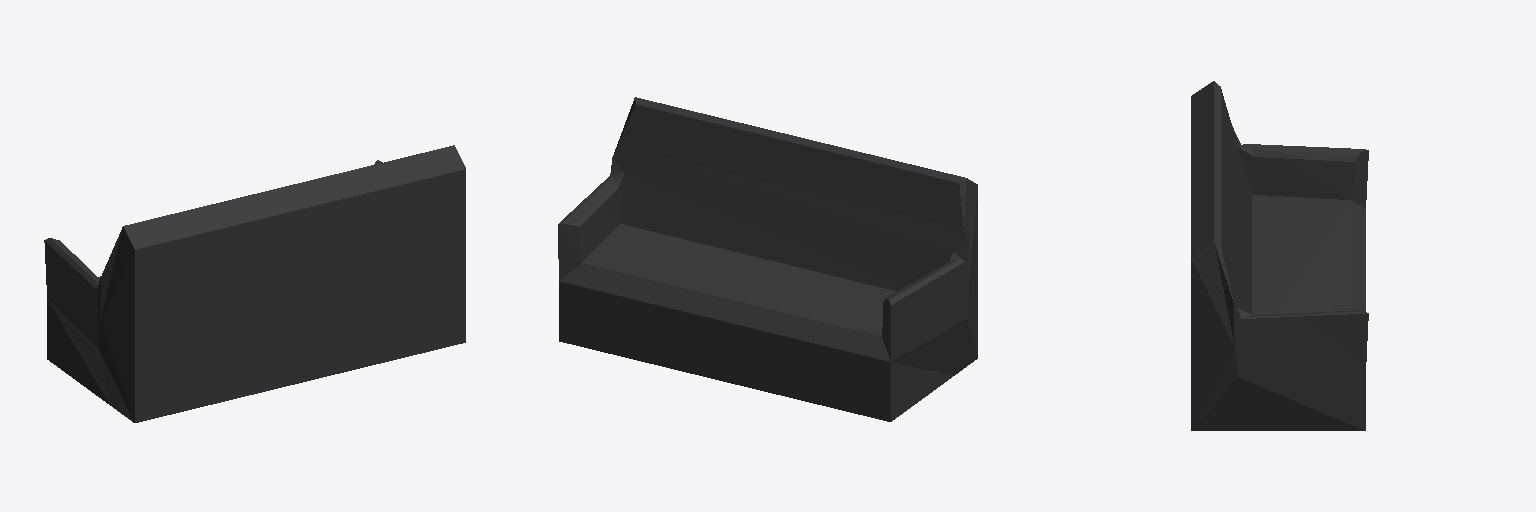
File: Couch.obj
The picture shows the model from 3 angles: view 1: azimuth 30°, elevation 25°; view 2: azimuth 150°, elevation 25°; view 3: azimuth 270°, elevation 25°; orthographic projection.
Visible parts, largest first — view 1: Couch; view 2: Couch; view 3: Couch.
Part boxes in pixels (left/top/right/bottom): Couch: left=44, top=145, right=465, bottom=422; Couch: left=558, top=97, right=977, bottom=421; Couch: left=1191, top=81, right=1368, bottom=430.
Bounding box in the file's own units: 6.45 × 3.27 × 2.79.